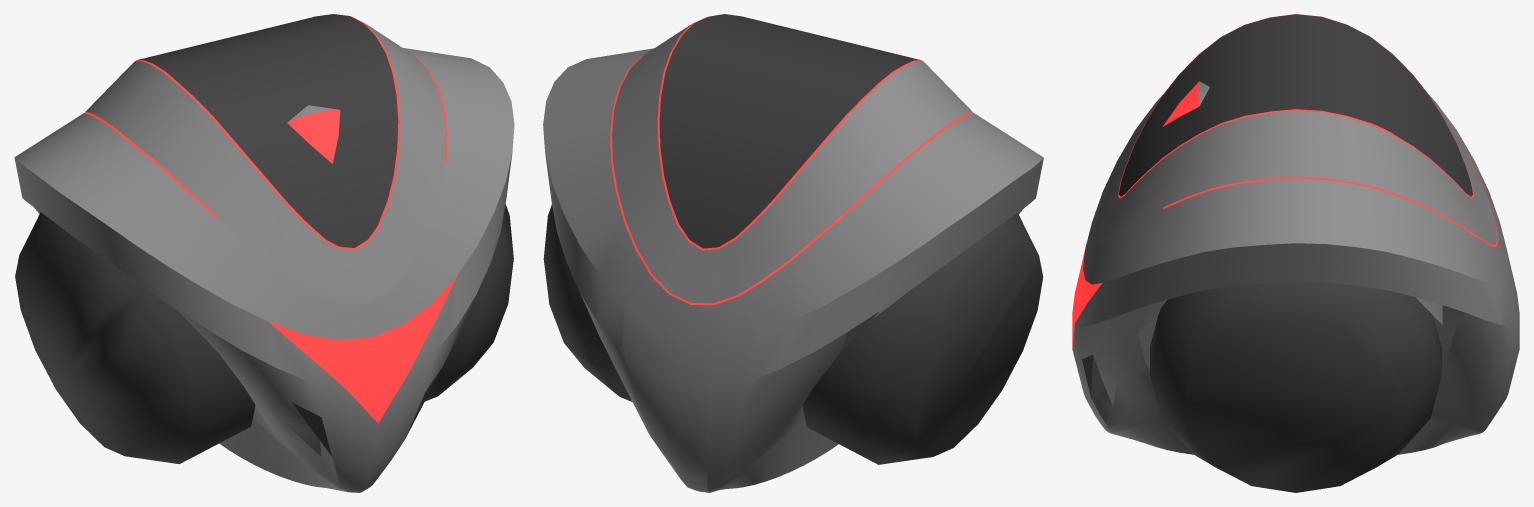
Rendered from Android_Fixed.fbx.
3 renders of one model, left to right at view 1: azimuth 30°, elevation 25°; view 2: azimuth 150°, elevation 25°; view 3: azimuth 270°, elevation 25°, orthographic.
Visible parts, largest first — view 1: Body, Arm, Glastop, Emissive; view 2: Body, Arm, Glastop, Emissive; view 3: Body, Arm, Glastop, Emissive.
Part boxes in pixels (x1=…): Body: x1=14, y1=24, x2=514, y2=492; Arm: x1=15, y1=204, x2=513, y2=464; Glastop: x1=137, y1=14, x2=442, y2=456; Emissive: x1=84, y1=16, x2=457, y2=423; Body: x1=543, y1=24, x2=1043, y2=492; Arm: x1=543, y1=204, x2=1043, y2=464; Glastop: x1=659, y1=14, x2=920, y2=248; Emissive: x1=610, y1=17, x2=973, y2=305; Body: x1=1072, y1=81, x2=1519, y2=454; Arm: x1=1150, y1=282, x2=1441, y2=492; Glastop: x1=1082, y1=14, x2=1472, y2=397; Emissive: x1=1072, y1=14, x2=1498, y2=347.
Bounding box in the file's own units: 315 × 256 × 276.
